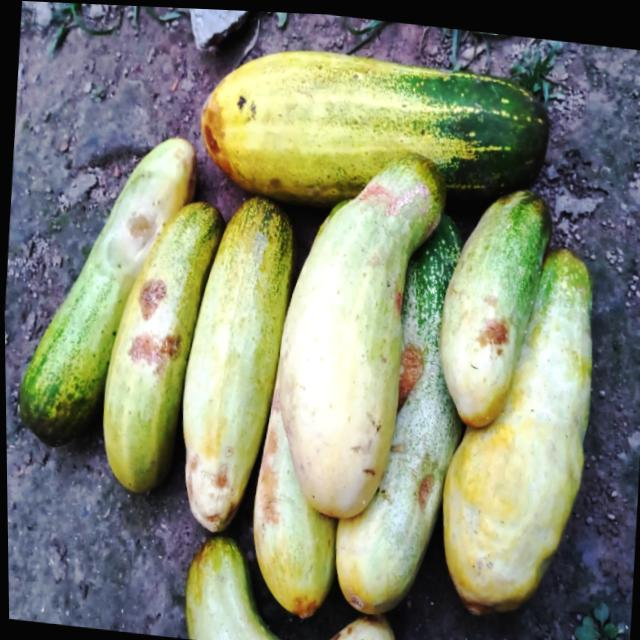Belly-Rot: (123, 273, 187, 385), (252, 381, 293, 527), (177, 444, 242, 534), (192, 85, 240, 181), (356, 165, 431, 221), (389, 332, 427, 416), (471, 290, 515, 355), (406, 441, 440, 515), (122, 199, 160, 247), (319, 613, 357, 640)
